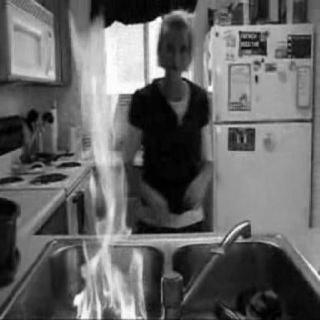Fire: (53, 4, 159, 318)
